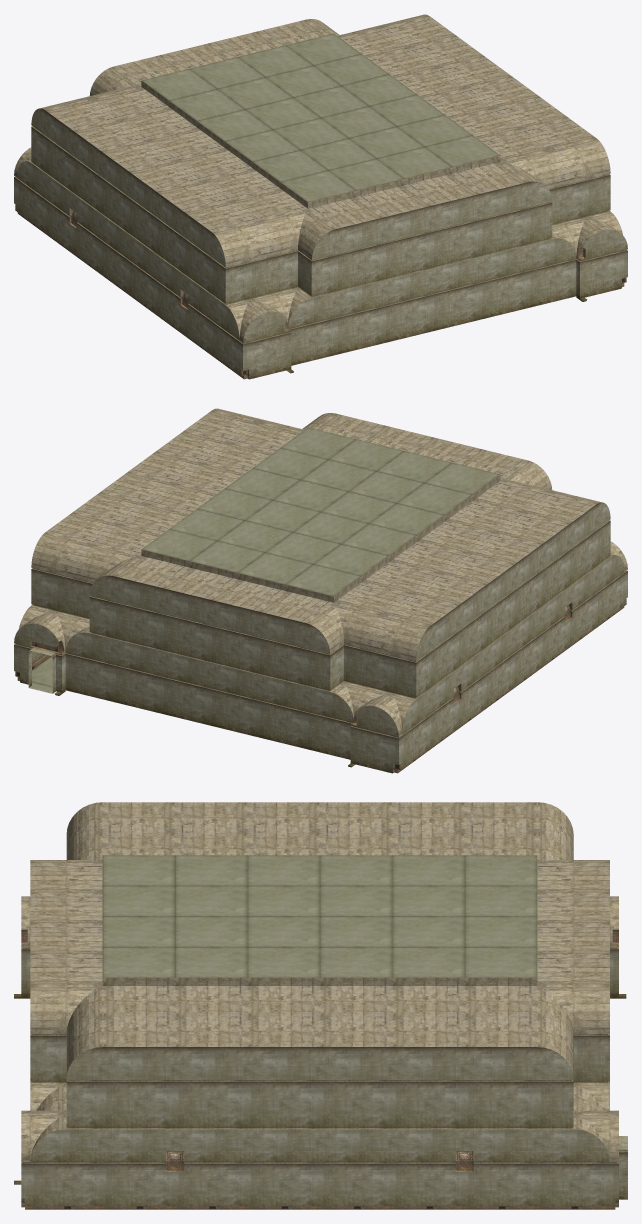
File: poi_all_bunker_mad_bio_s01_r10_lab1_mesh_r10.fbx
The picture shows the model from 3 angles, top to bottom: view 1: azimuth 30°, elevation 25°; view 2: azimuth 150°, elevation 25°; view 3: azimuth 270°, elevation 25°; orthographic projection. The views are drawn at different scales.
Visible parts, largest first — view 1: mesh_node; view 2: mesh_node; view 3: mesh_node.
Part boxes in pixels (<box>): mesh_node: <box>14,14,627,379</box>; mesh_node: <box>14,408,627,773</box>; mesh_node: <box>14,802,627,1209</box>.
Bounding box in the file's own units: 32 × 12.5 × 33.9.
